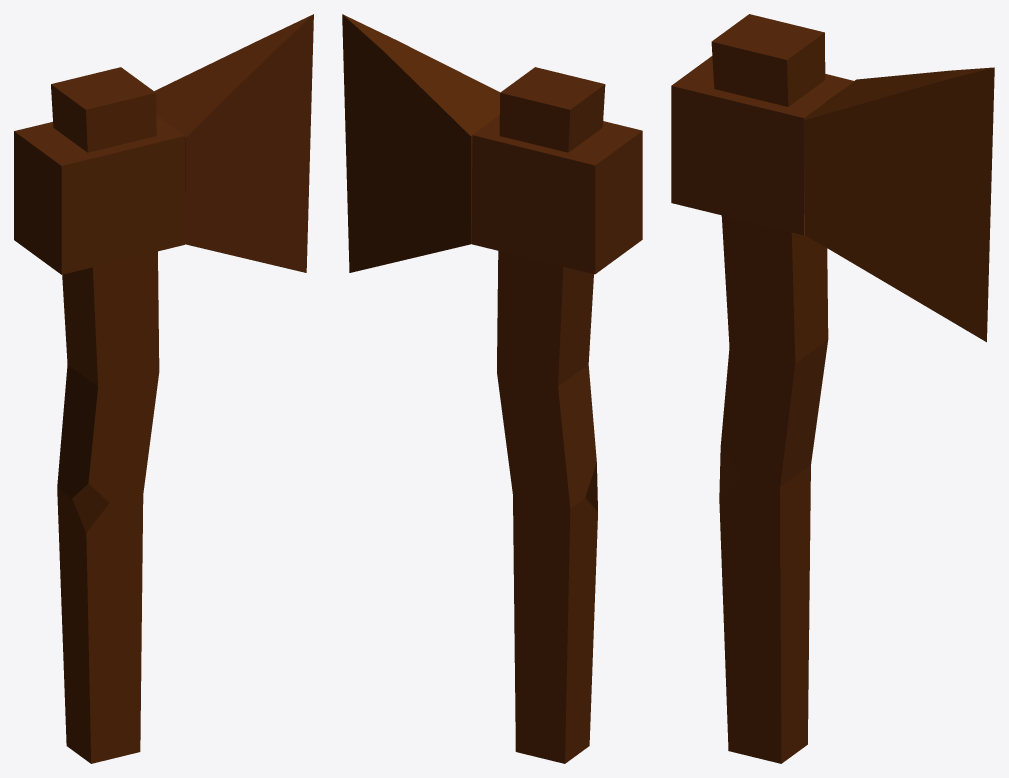
Rendered from camping_axe.glb.
3 renders of one model, left to right at view 1: azimuth 30°, elevation 25°; view 2: azimuth 150°, elevation 25°; view 3: azimuth 330°, elevation 25°, orthographic. The views are drawn at different scales.
Visible parts, largest first — view 1: camping_axe; view 2: camping_axe; view 3: camping_axe.
Part boxes in pixels (x1=…): camping_axe: x1=14, y1=14, x2=313, y2=763; camping_axe: x1=342, y1=14, x2=642, y2=763; camping_axe: x1=671, y1=14, x2=994, y2=763.
Bounding box in the file's own units: 51.21 × 121 × 15.81.
